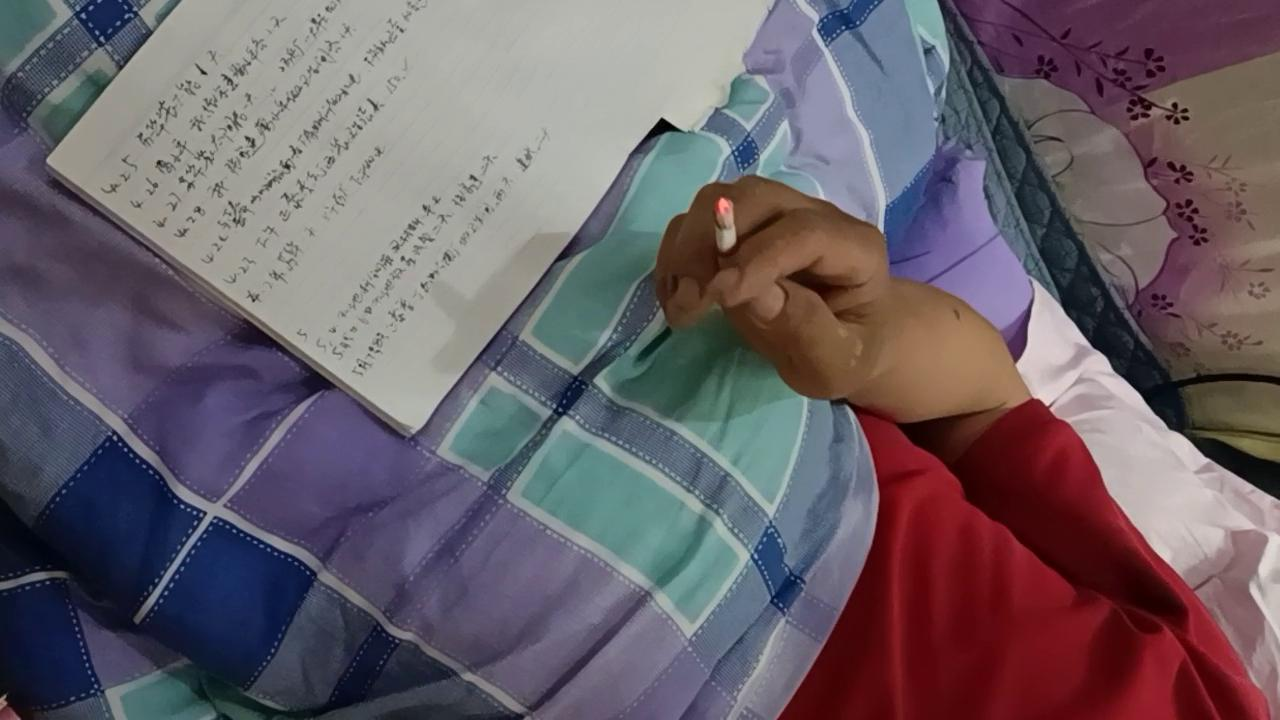smoke: (714, 196, 741, 290)
